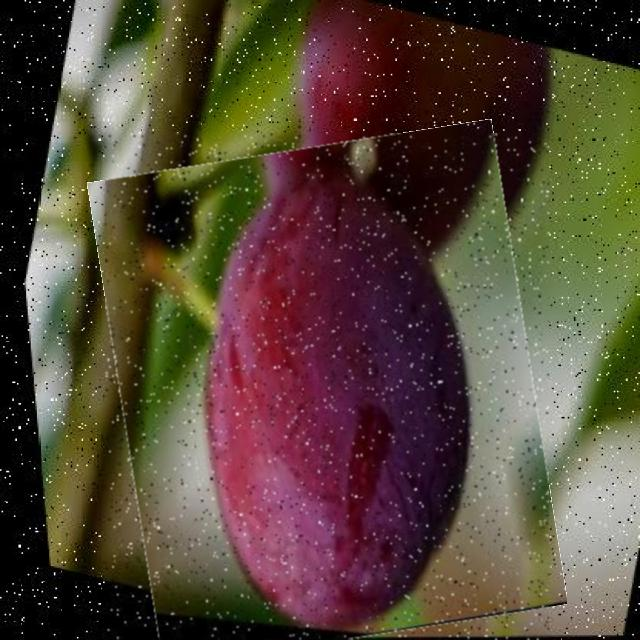plum: (105, 133, 549, 640)
